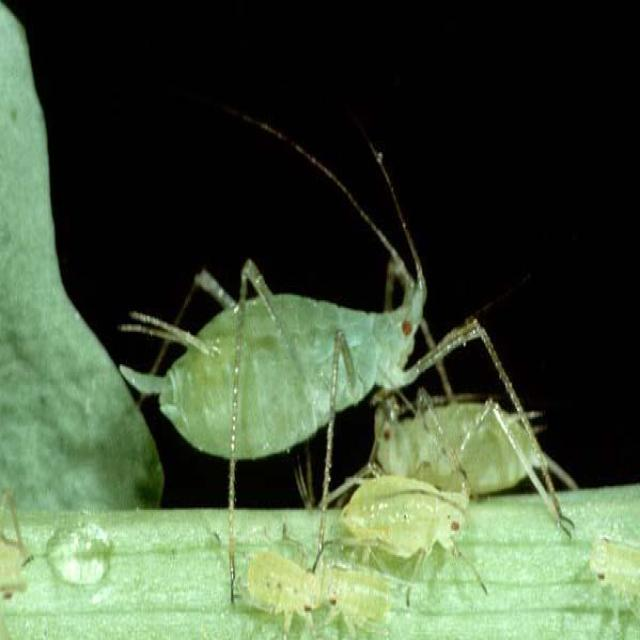Aphids: (90, 164, 432, 450), (369, 367, 554, 497), (333, 457, 478, 573), (231, 526, 323, 634)
